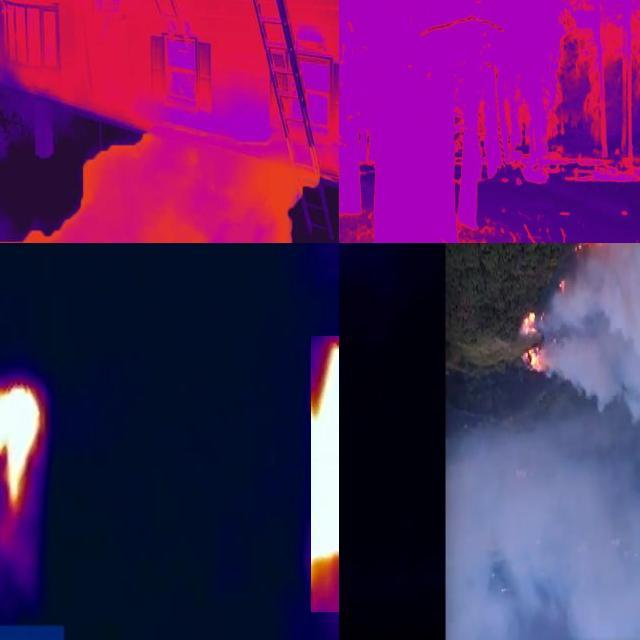fire: (1, 371, 50, 511)
